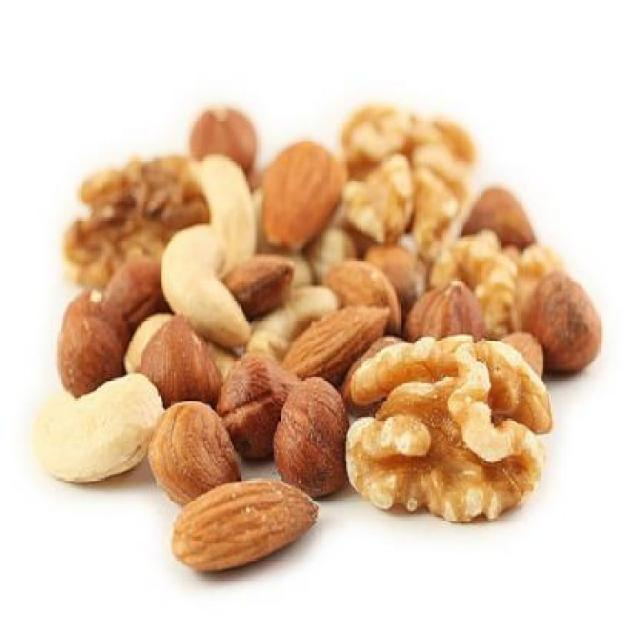Frutta secca: (40, 94, 605, 562)
